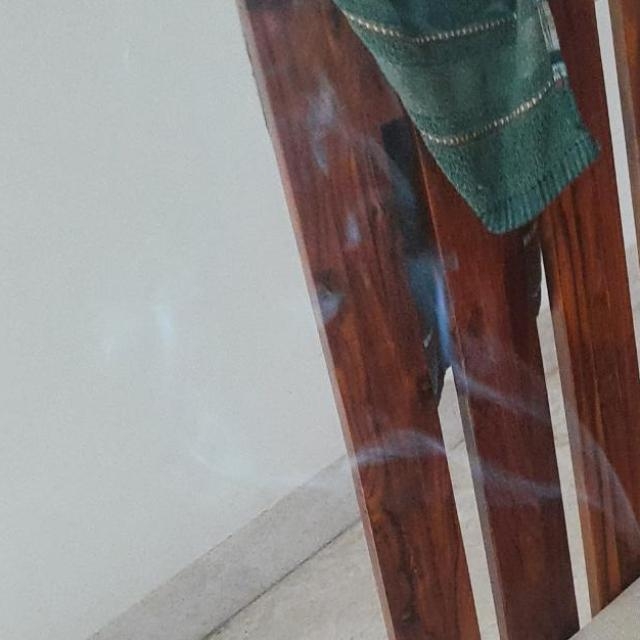fire: (295, 66, 516, 410), (215, 424, 640, 551)
